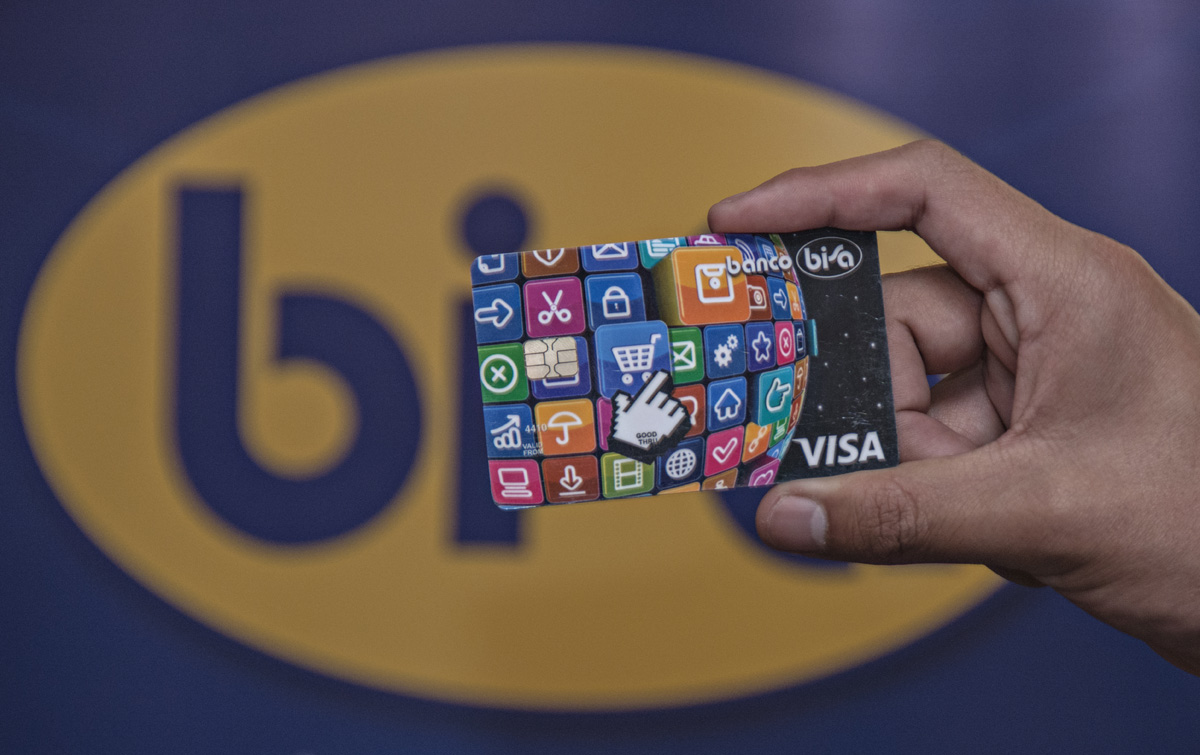tarjeta: (473, 229, 901, 513)
